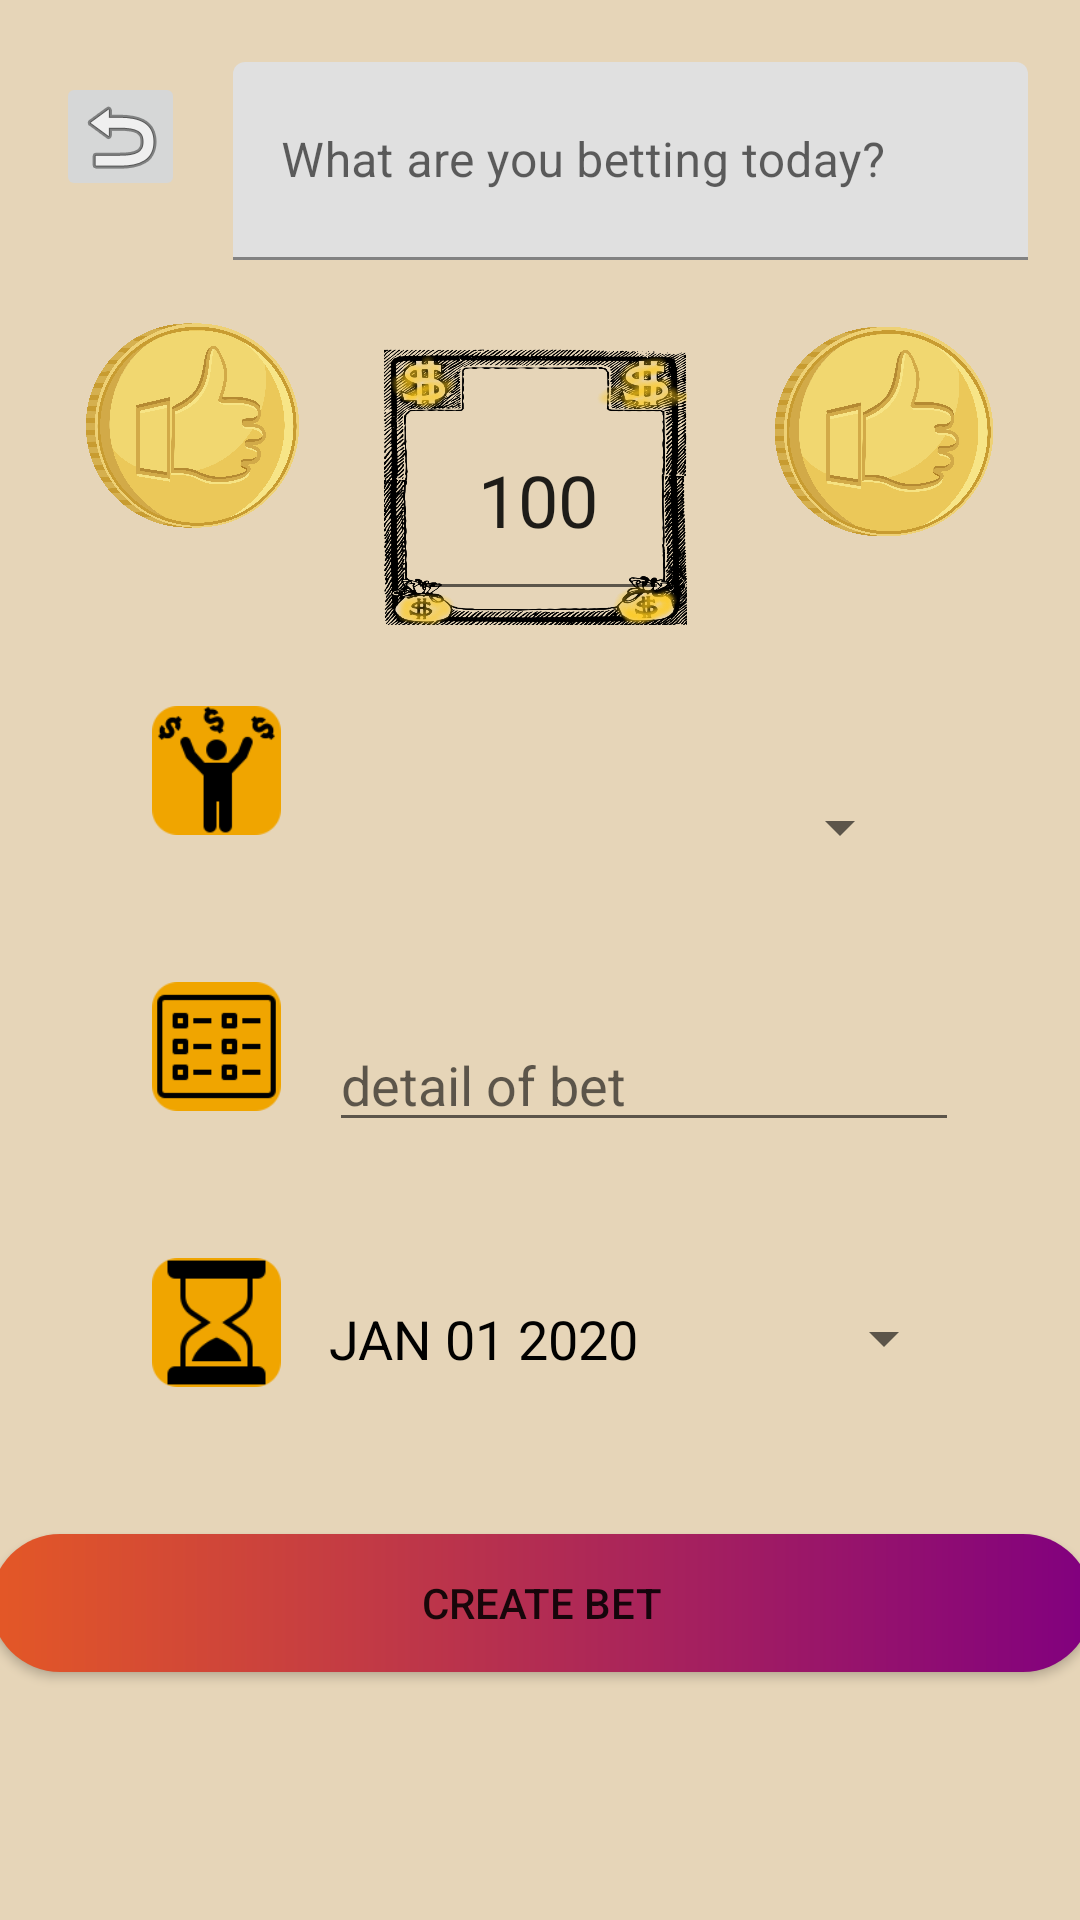

Screen size 1080x1920. Icon name, then its box in pixels as (x1, y1, x2, y2):
endtime: (152, 1258, 281, 1387)
gold thumbup: (86, 323, 299, 528), (775, 327, 993, 536)
money frame: (384, 349, 687, 625)
money man: (152, 706, 281, 835)
revert: (68, 90, 173, 183)
